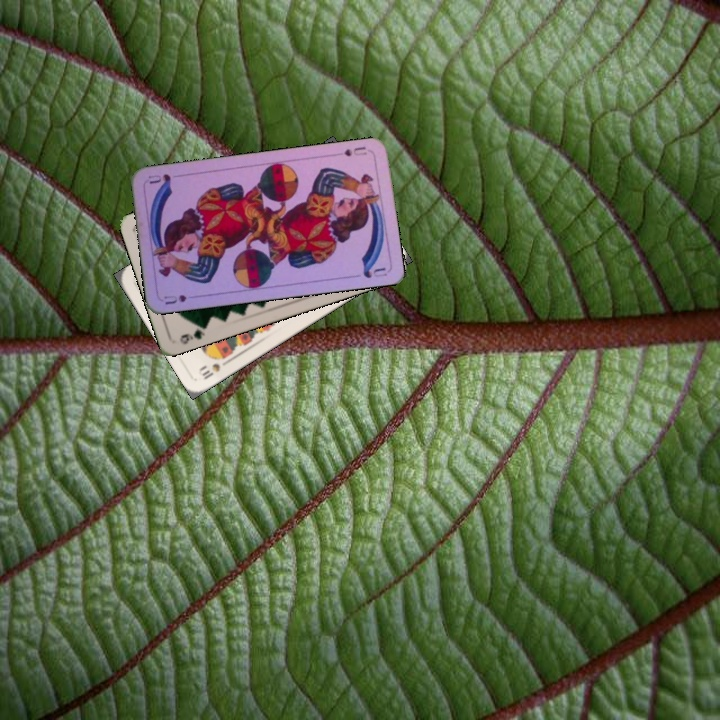G9: (175, 319, 210, 347)
S10: (194, 355, 233, 382)
SU: (160, 290, 201, 307), (340, 142, 369, 159)
